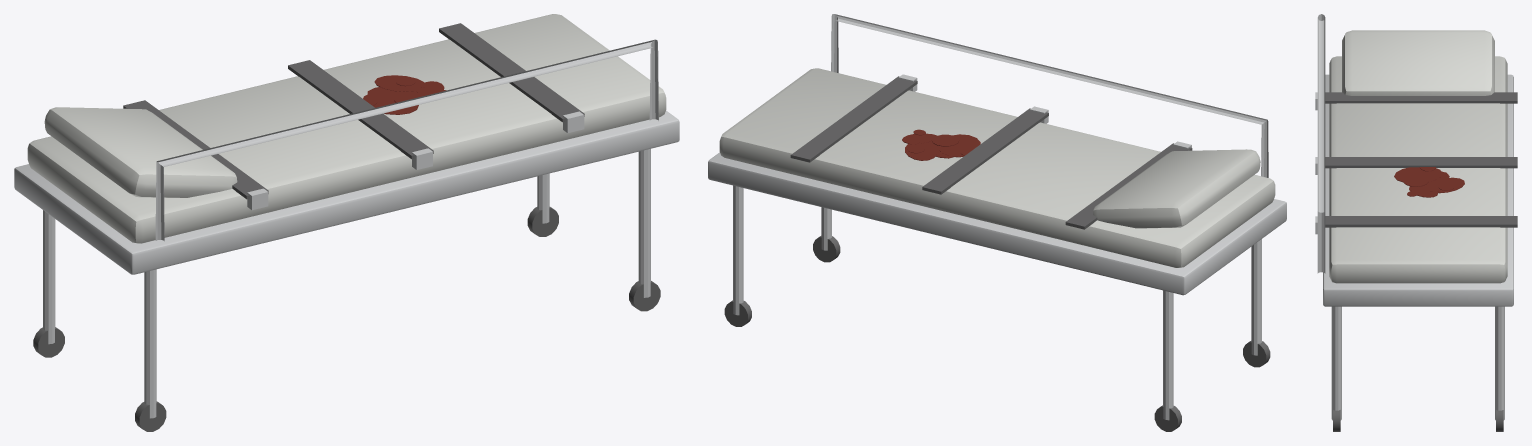
Rendered from exam_bed.glb.
3 views of the same model, side by side, from view 1: azimuth 30°, elevation 25°; view 2: azimuth 150°, elevation 25°; view 3: azimuth 270°, elevation 25° (orthographic). The views are drawn at different scales.
Parts seen in each view (by area): view 1: exam_bed; view 2: exam_bed; view 3: exam_bed.
Boxes of the visible parts, x1,y1,x2,y2 form: exam_bed: (14, 14, 679, 431); exam_bed: (708, 14, 1286, 431); exam_bed: (1315, 14, 1517, 431).
Size of what is drawn, in the model's own units: 2 by 0.9606 by 0.795.
